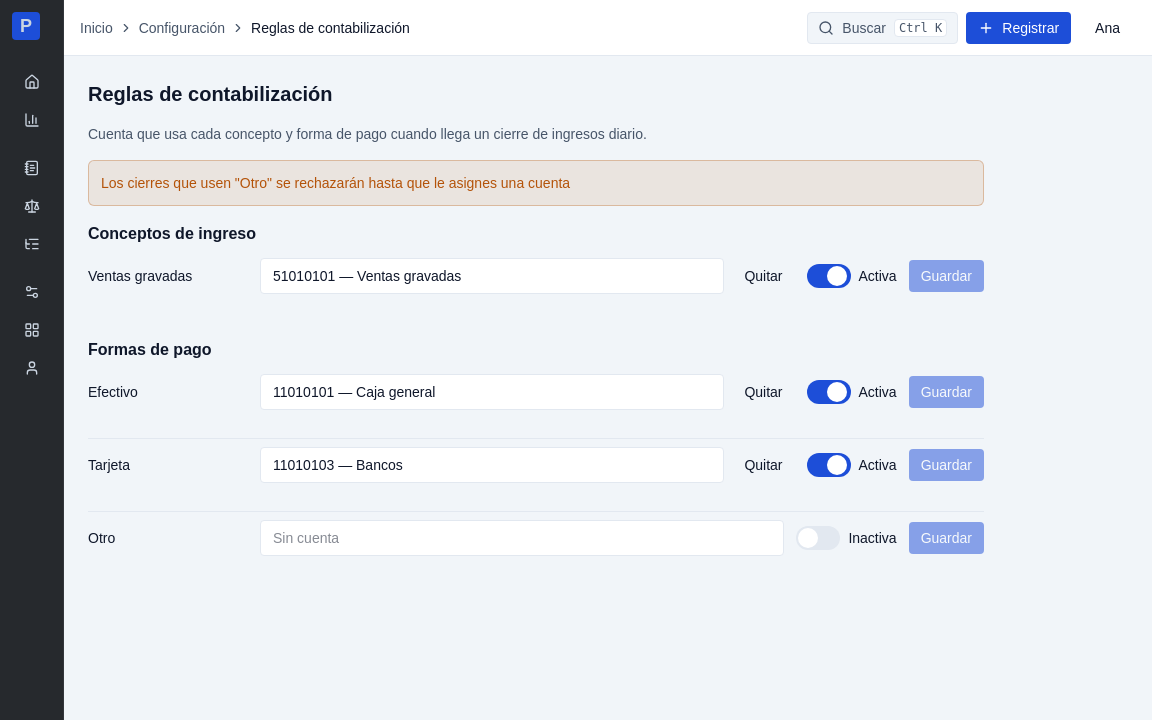
Scenario: pestaña Reglas de Configuración › activar sin cuenta no envía nada y muestra el error
The image size is (1152, 720).
Click the switch named "Regla activa: Otro" at (818, 538), box [796, 526, 840, 550]
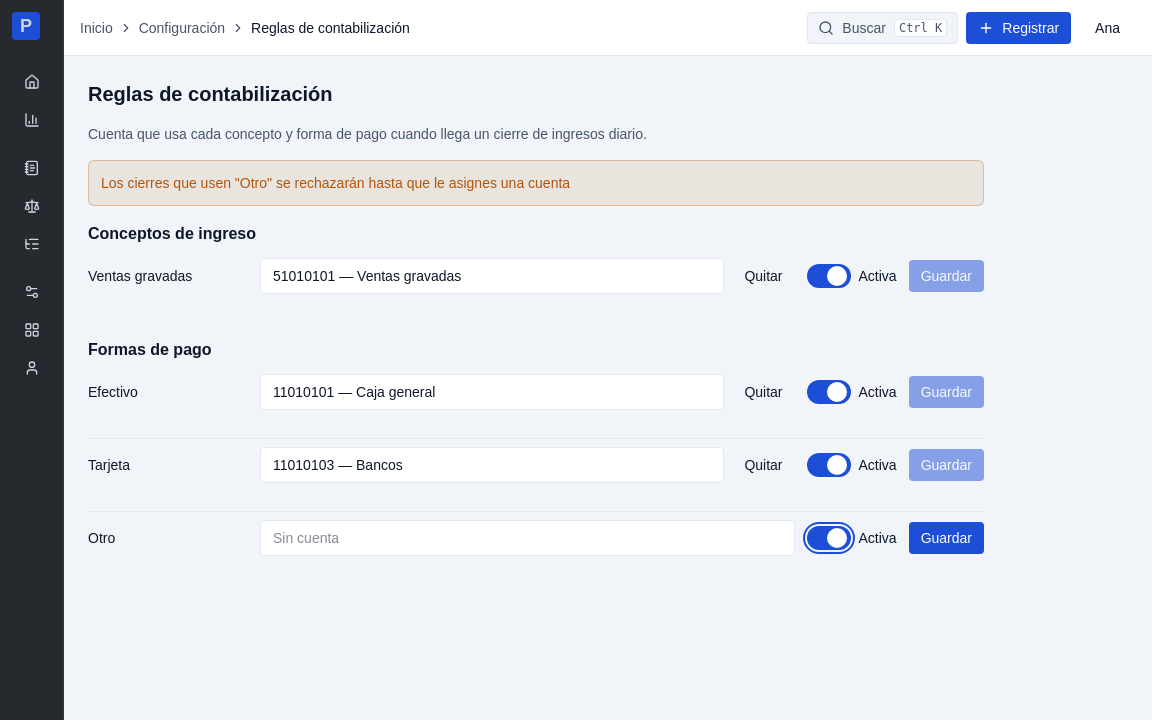
Click the button with aria-label "Guardar Otro" at (946, 538), box [909, 522, 984, 554]
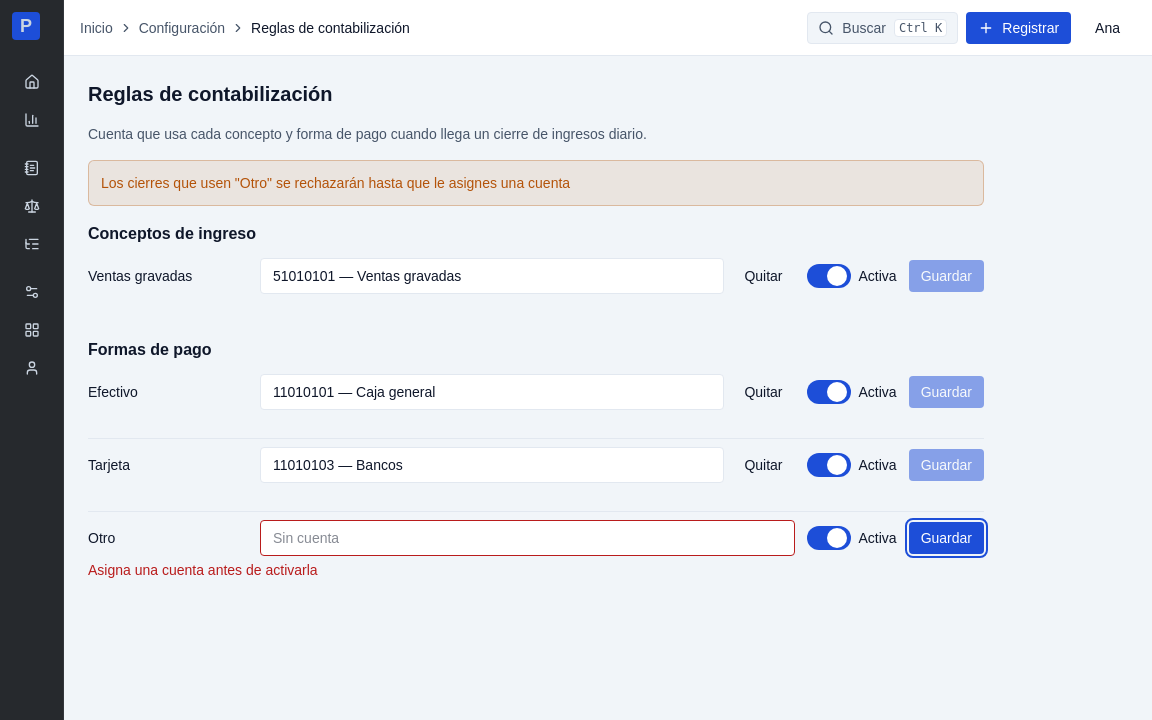
Expected: the text "Asigna una cuenta antes de activarla" is shown, [88, 562, 318, 578]
